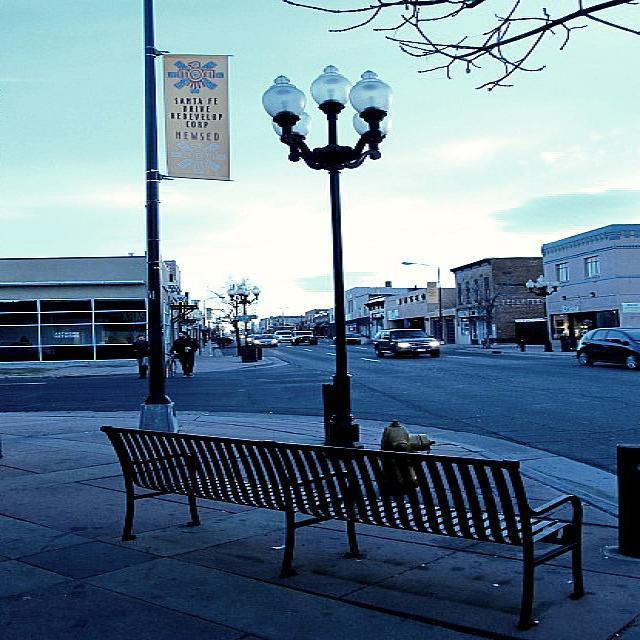fire_hydrant: (379, 420, 429, 454)
